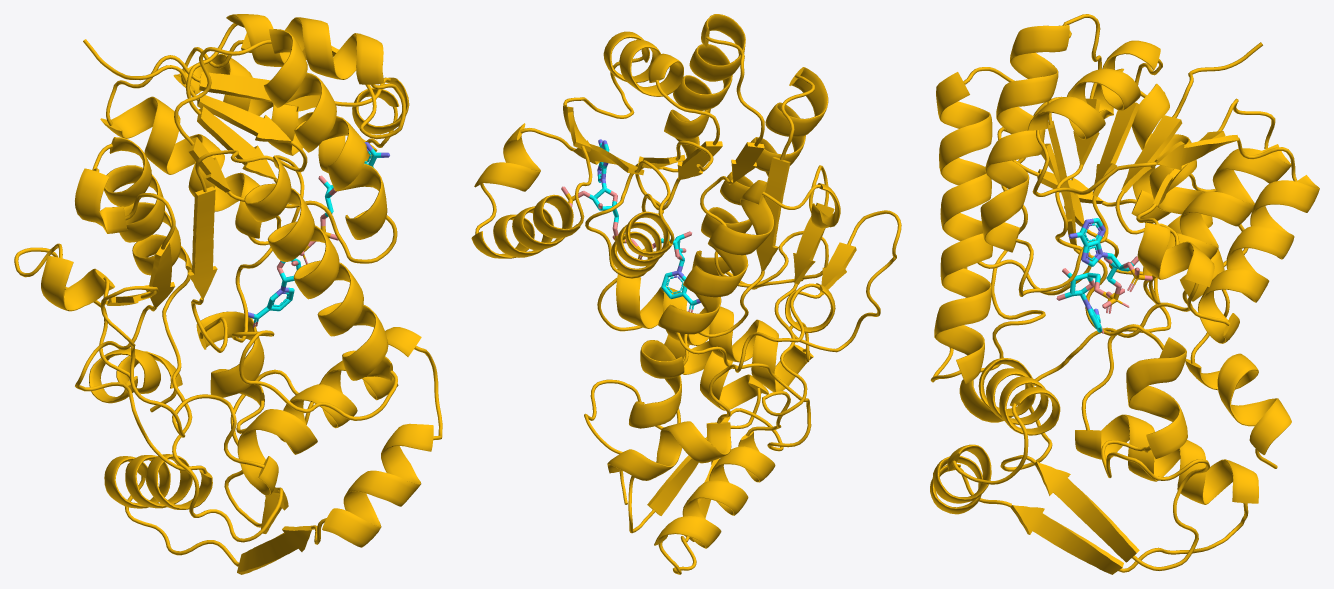
The model's file is A119_full.gltf.
3 renders of one model, left to right at view 1: azimuth 30°, elevation 25°; view 2: azimuth 150°, elevation 25°; view 3: azimuth 270°, elevation 25°, orthographic. The views are drawn at different scales.
Parts seen in each view (by area): view 1: node-geom131, node-geom132, node-geom133; view 2: node-geom132, node-geom131, node-geom133; view 3: node-geom131, node-geom132, node-geom133.
Part boxes in pixels (left/top/right/bottom): node-geom131: left=83, top=14, right=409, bottom=420; node-geom132: left=75, top=137, right=442, bottom=574; node-geom133: left=14, top=243, right=415, bottom=495; node-geom132: left=584, top=67, right=840, bottom=574; node-geom131: left=471, top=14, right=828, bottom=289; node-geom133: left=607, top=210, right=901, bottom=504; node-geom131: left=930, top=14, right=1319, bottom=383; node-geom132: left=930, top=67, right=1258, bottom=574; node-geom133: left=959, top=127, right=1291, bottom=468.
Bounding box in the file's own units: 42.64 × 59.98 × 38.12.
